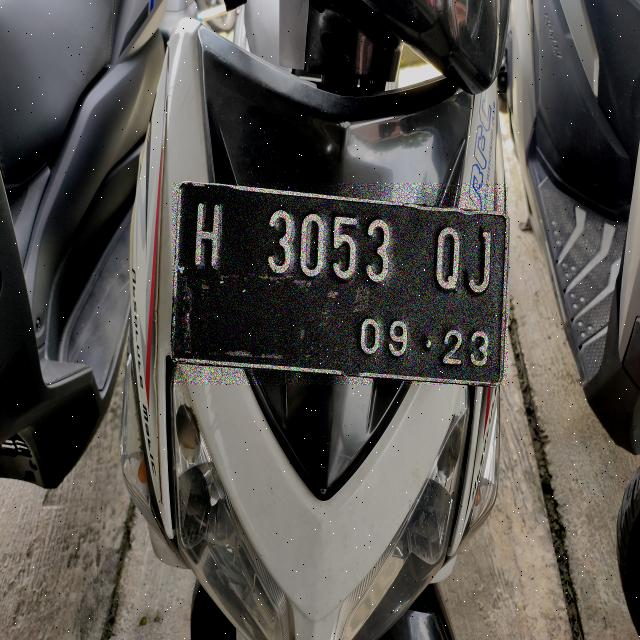plate: (173, 184, 507, 384)
